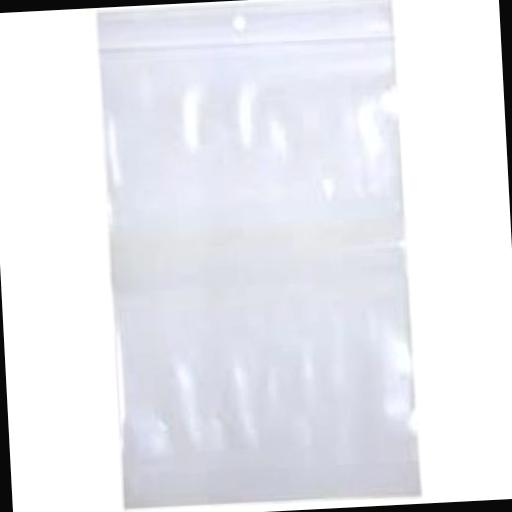plastic: (92, 0, 418, 509)
